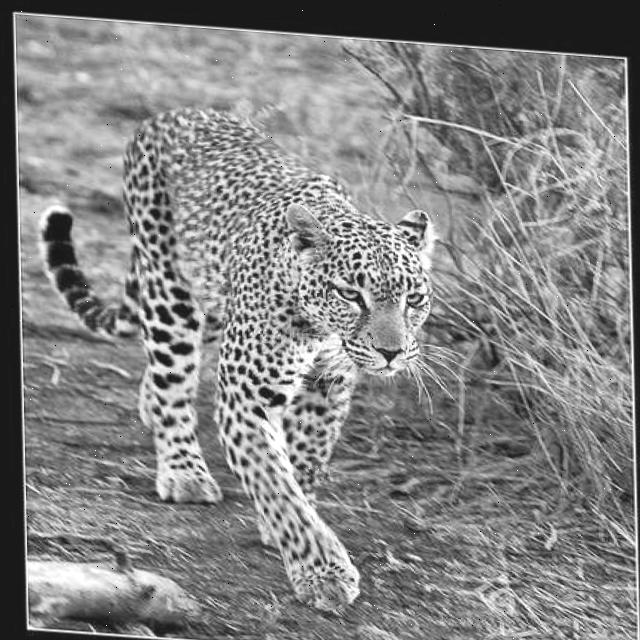Leopard: (32, 91, 473, 622)
